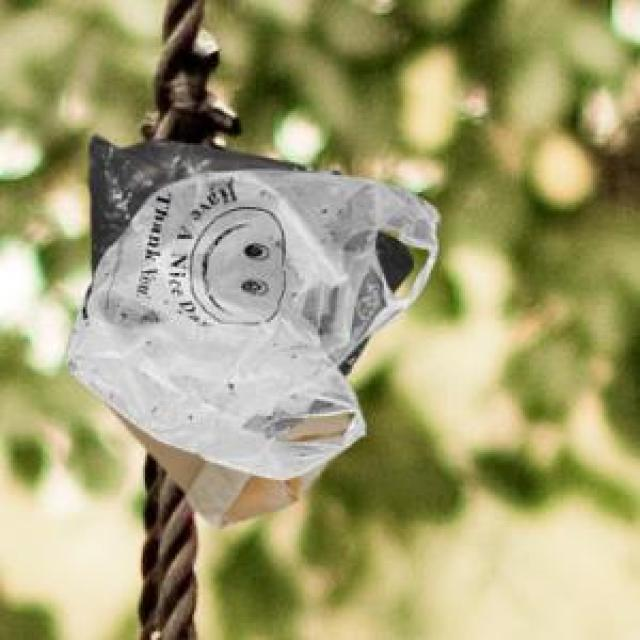paper: (108, 403, 346, 525)
